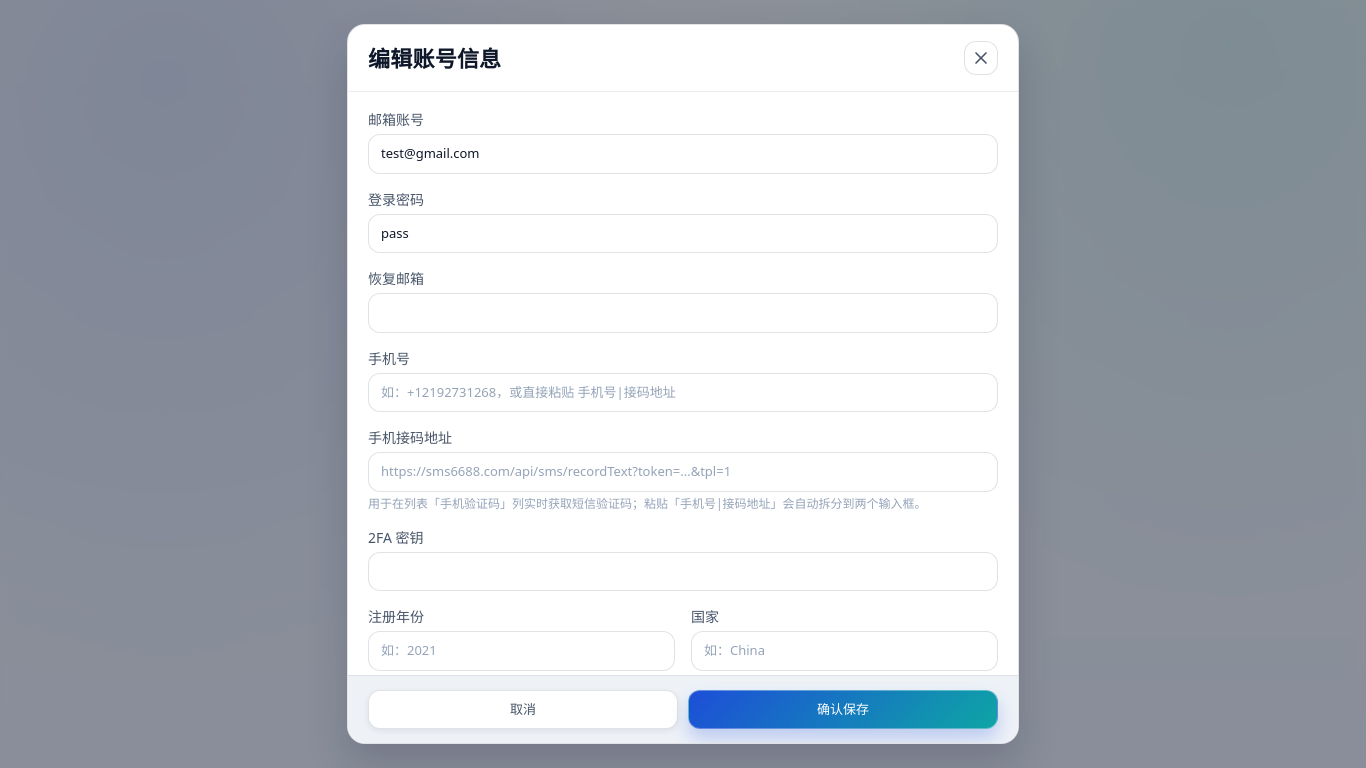
Test case: EditModal 手机接码地址 › 非法接码地址阻止提交并提示
In the field with placeholder "https://sms6688.com/api/sms/recordText?token=...&tpl=1": point(683, 472) x1=368 y1=452 x2=998 y2=492, type "http://sms6688.com/x?t=1"
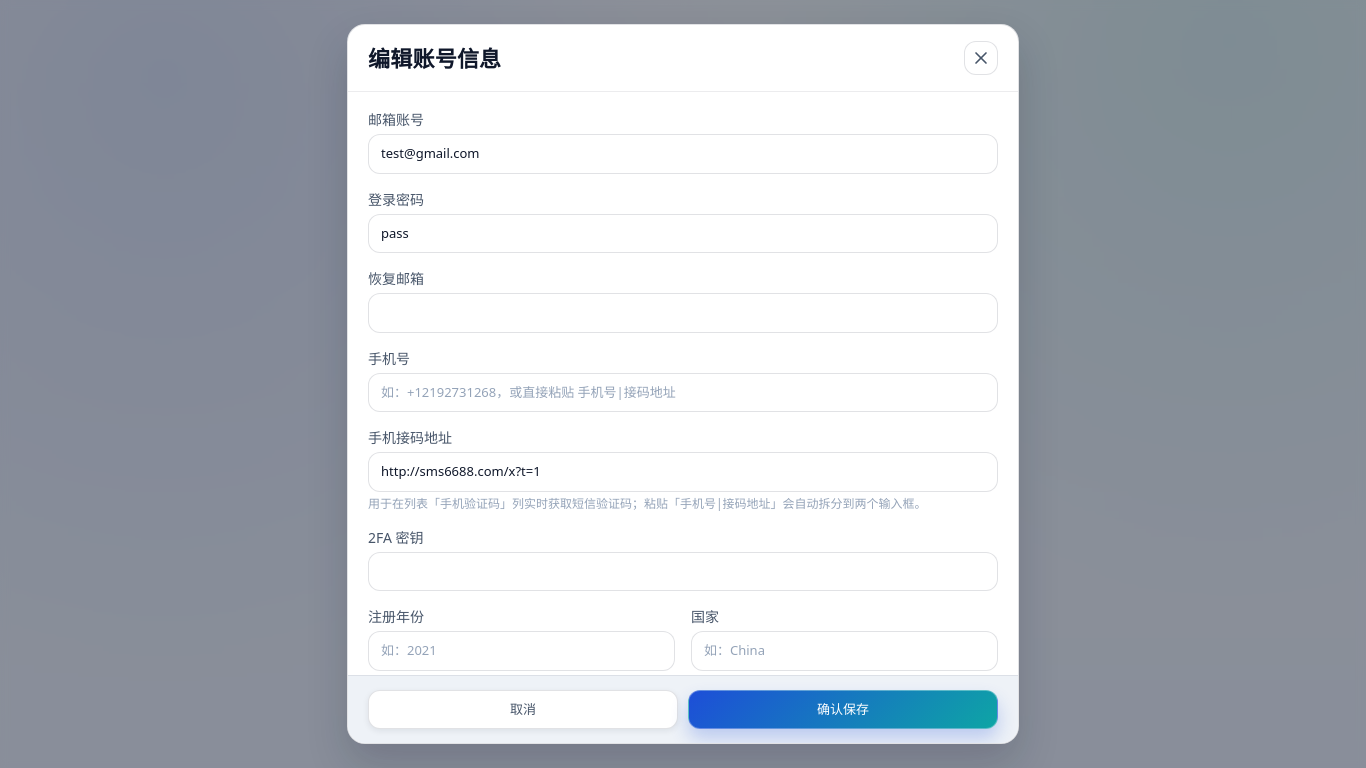
Click the button "确认保存": point(843, 709) x1=688 y1=690 x2=998 y2=729
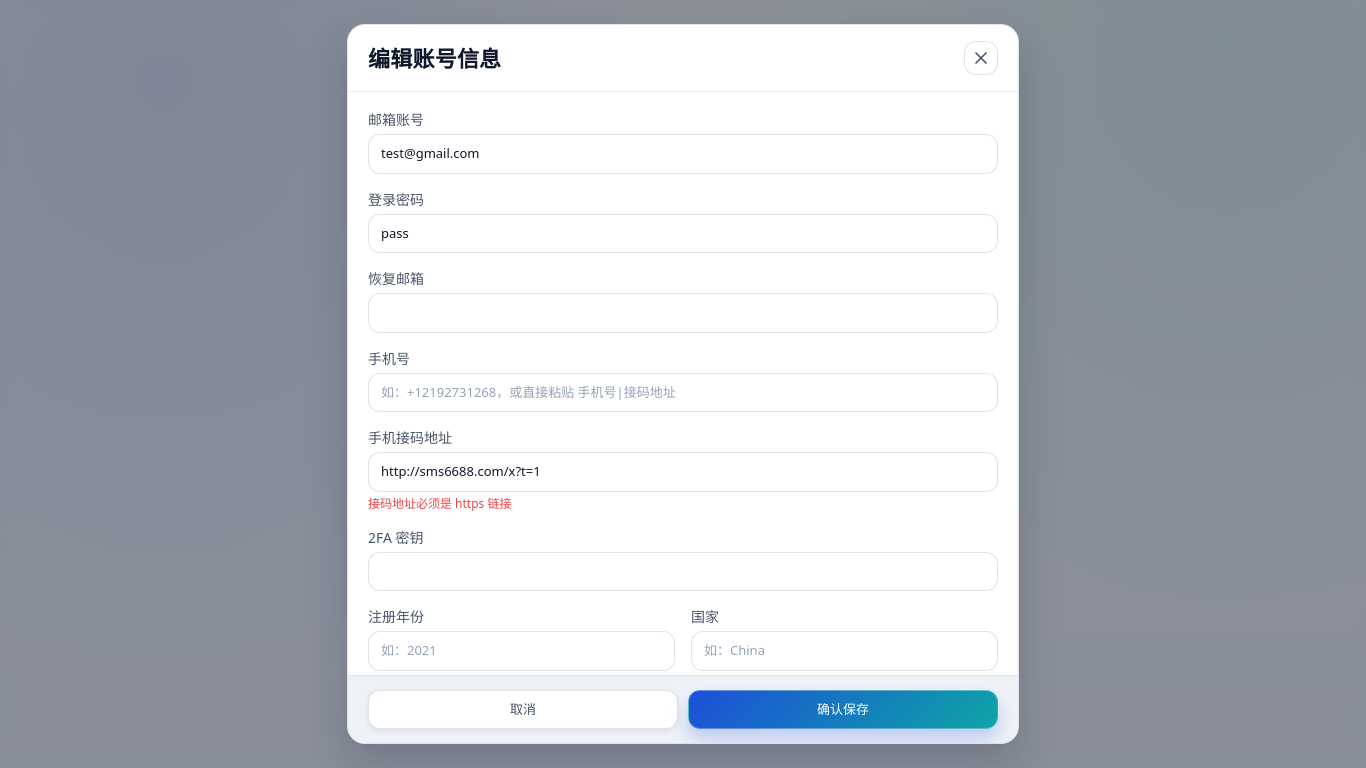
expect the text "接码地址必须是 https 链接" is shown: met, box x1=368 y1=494 x2=512 y2=512
